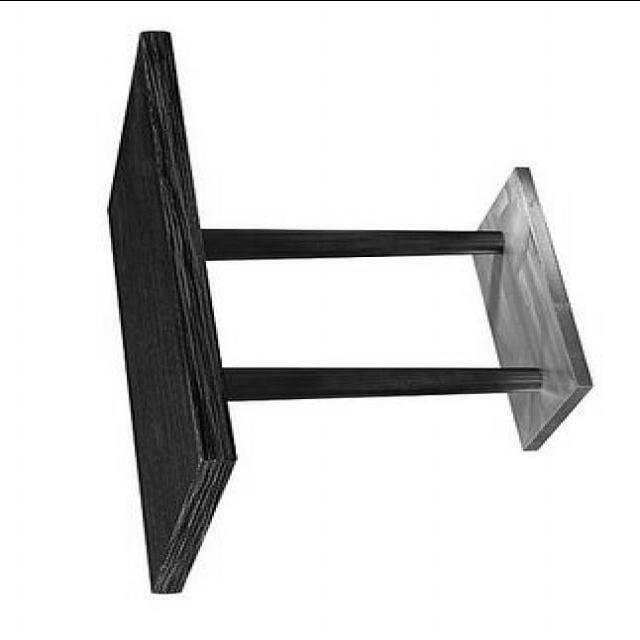table: (110, 30, 593, 594)
